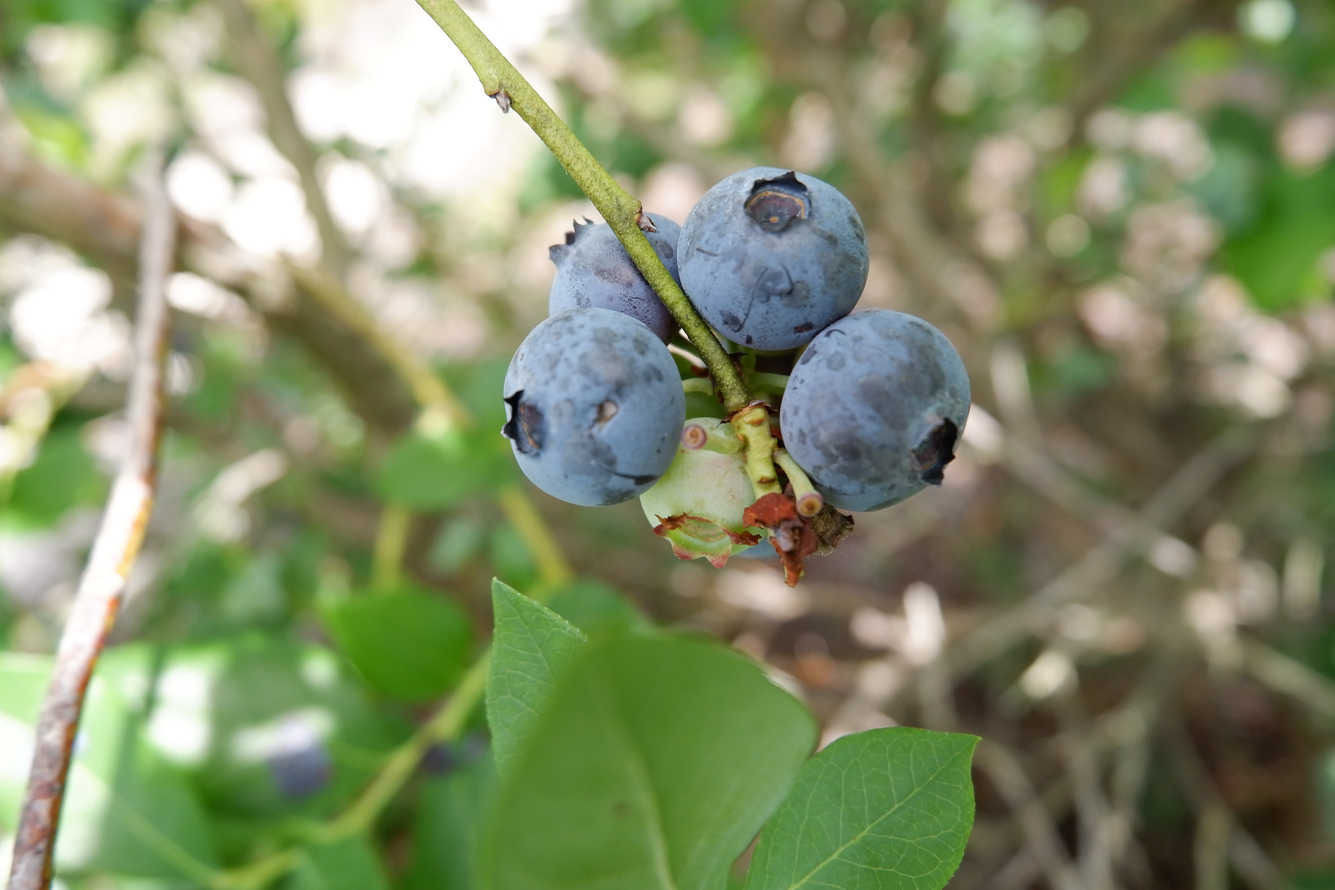Immature: (643, 418, 762, 565)
Mature: (783, 309, 969, 511), (506, 311, 681, 504), (684, 172, 867, 347), (548, 213, 681, 339), (736, 533, 779, 557)
